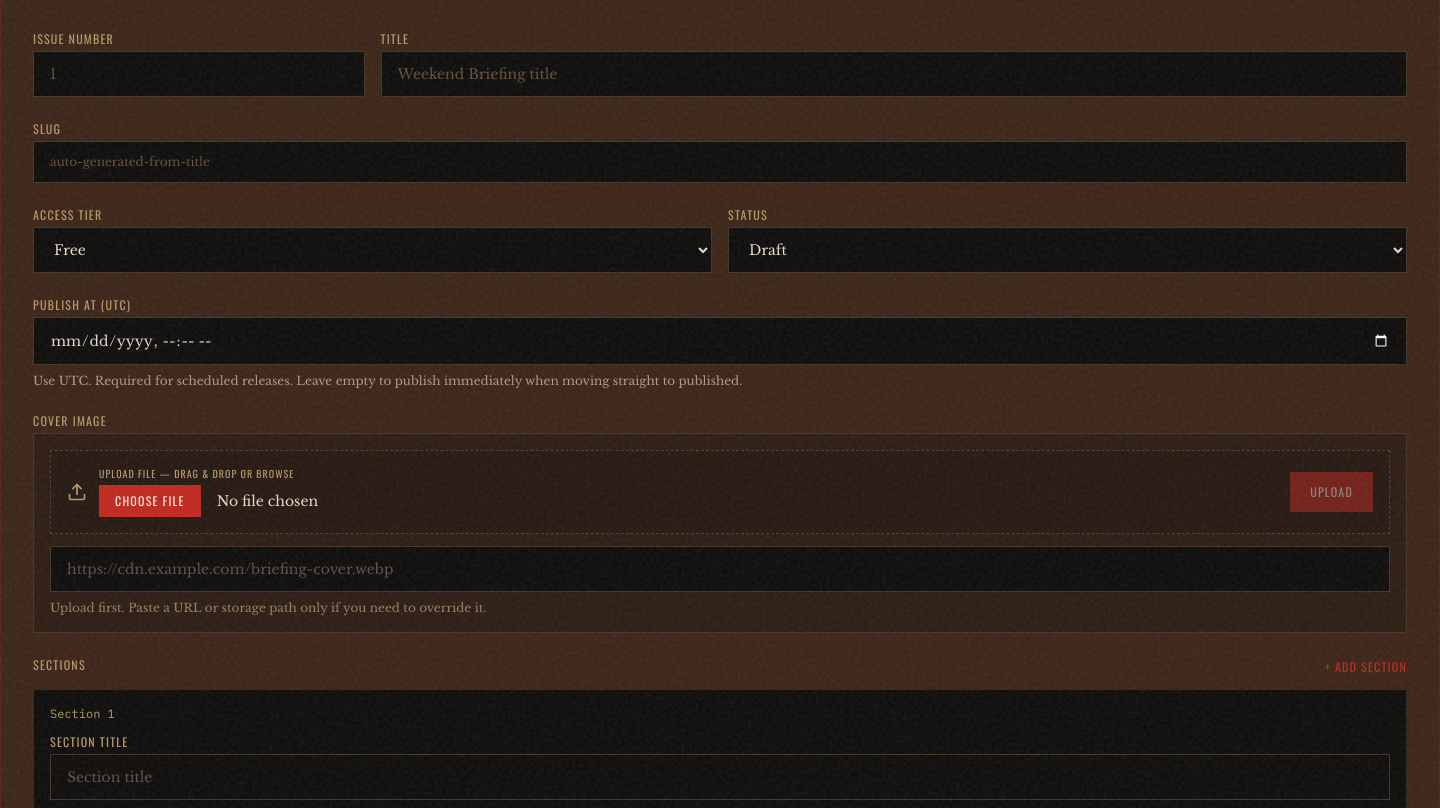
it: BriefingForm › adds and removes sections
The image size is (1440, 808).
Expected: the text "Section 1" is shown, left=50, top=706, right=115, bottom=722
Expected: the text "Section 2" is not shown
Note: Add a section
Click the button "+ Add Section". click: (1366, 667)
box: left=1325, top=659, right=1407, bottom=675
(page scrolled)
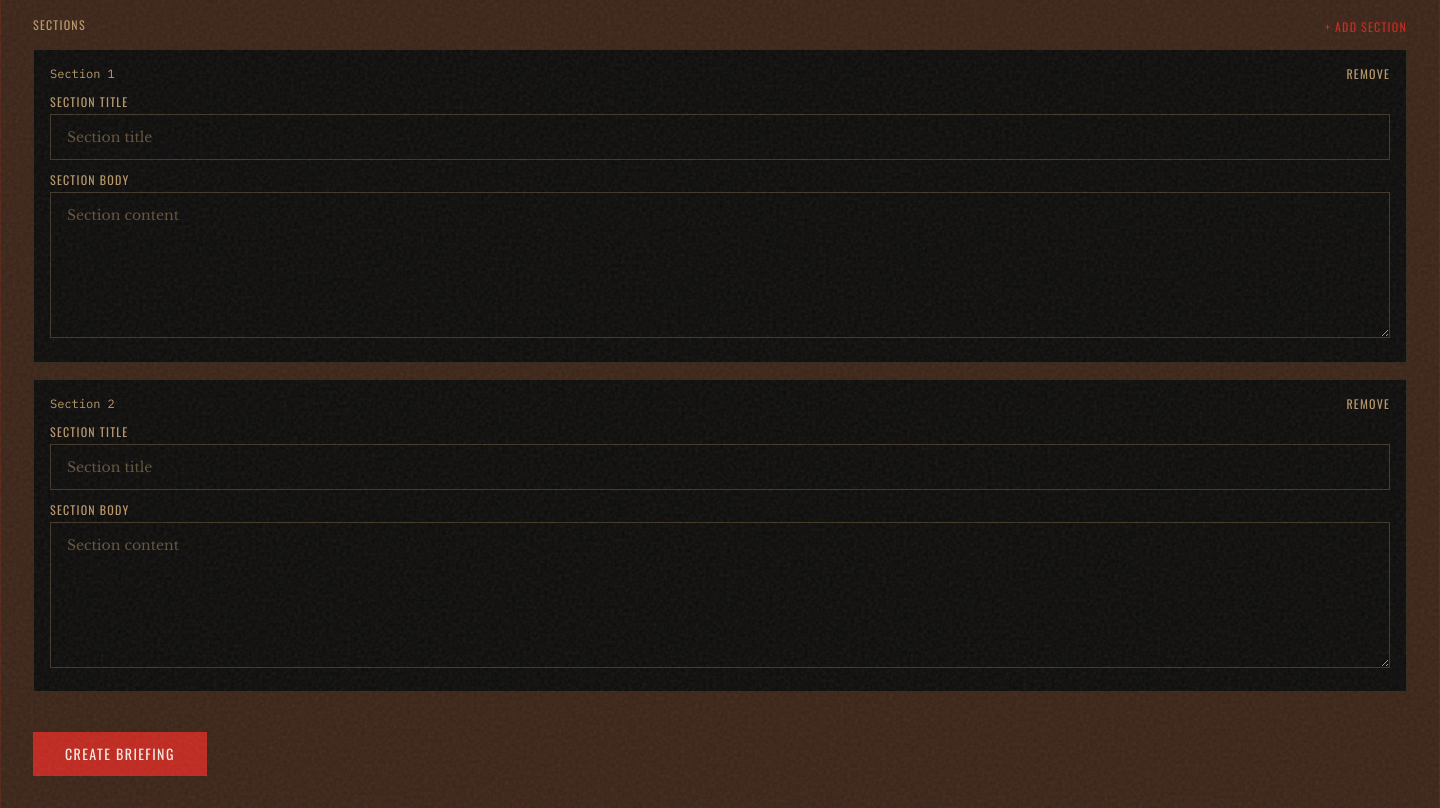
Result: the text "Section 2" is shown at left=50, top=396, right=115, bottom=412
Note: Remove the second section
Click the 2nd button "Remove". click: (1368, 404)
box: left=1346, top=396, right=1390, bottom=412
(page scrolled)
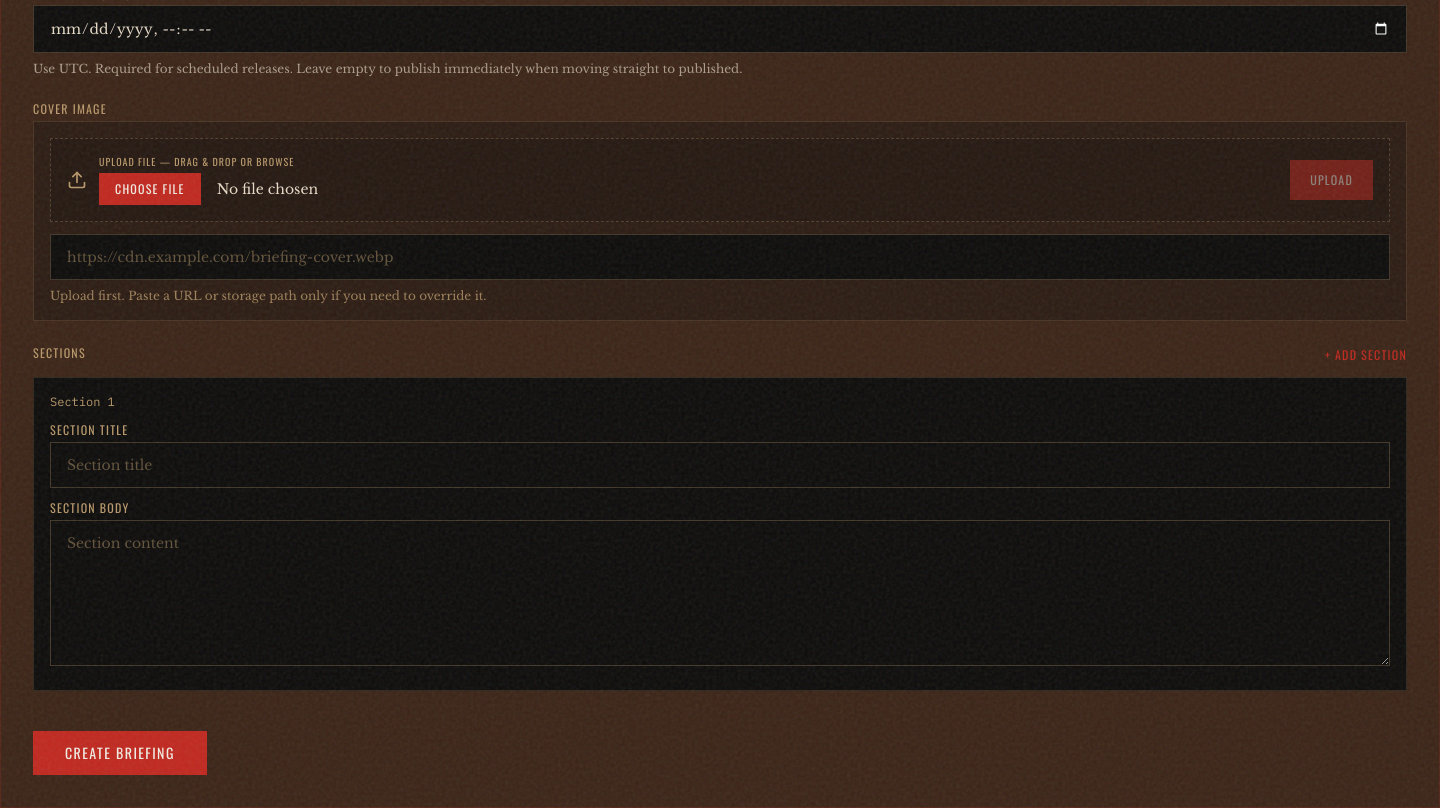
Result: the text "Section 2" is gone
